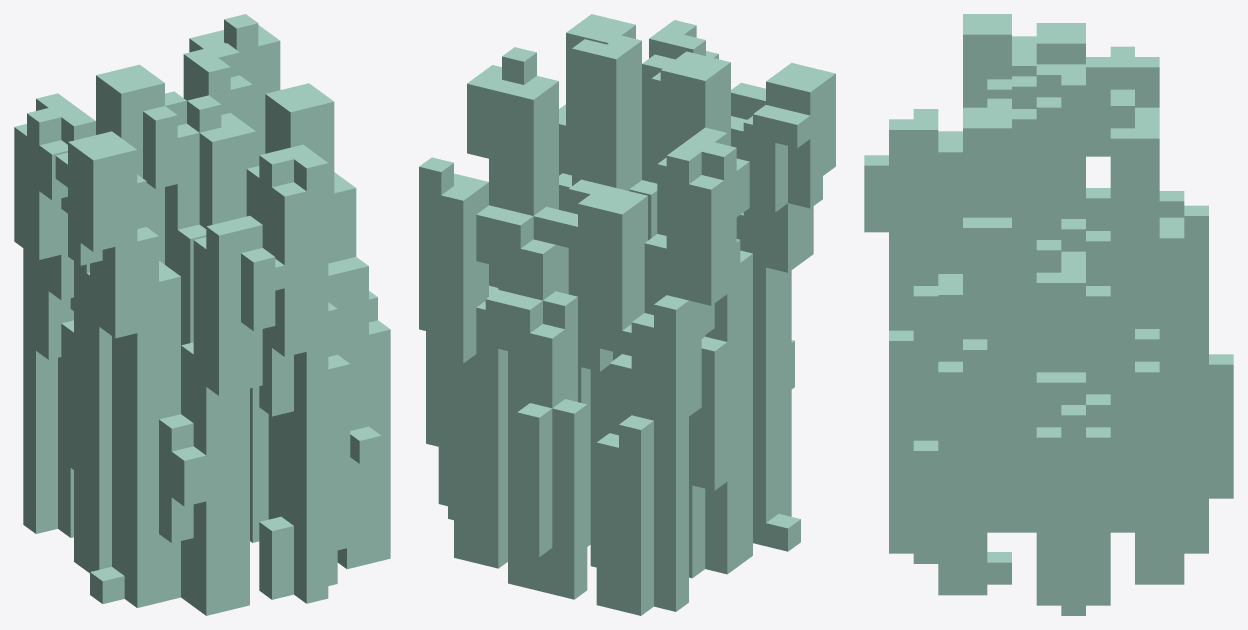
The model's file is SmallCoral2.fbx.
The picture shows the model from 3 angles, left to right: view 1: azimuth 30°, elevation 25°; view 2: azimuth 150°, elevation 25°; view 3: azimuth 270°, elevation 25°; orthographic projection. The views are drawn at different scales.
Parts seen in each view (by area): view 1: Cube.105; view 2: Cube.105; view 3: Cube.105.
Boxes of the visible parts, left/top/right/bottom form: Cube.105: left=14, top=14, right=390, bottom=615; Cube.105: left=419, top=14, right=835, bottom=615; Cube.105: left=864, top=14, right=1233, bottom=615.
Bounding box in the file's own units: 50.24 × 70.33 × 50.24.
